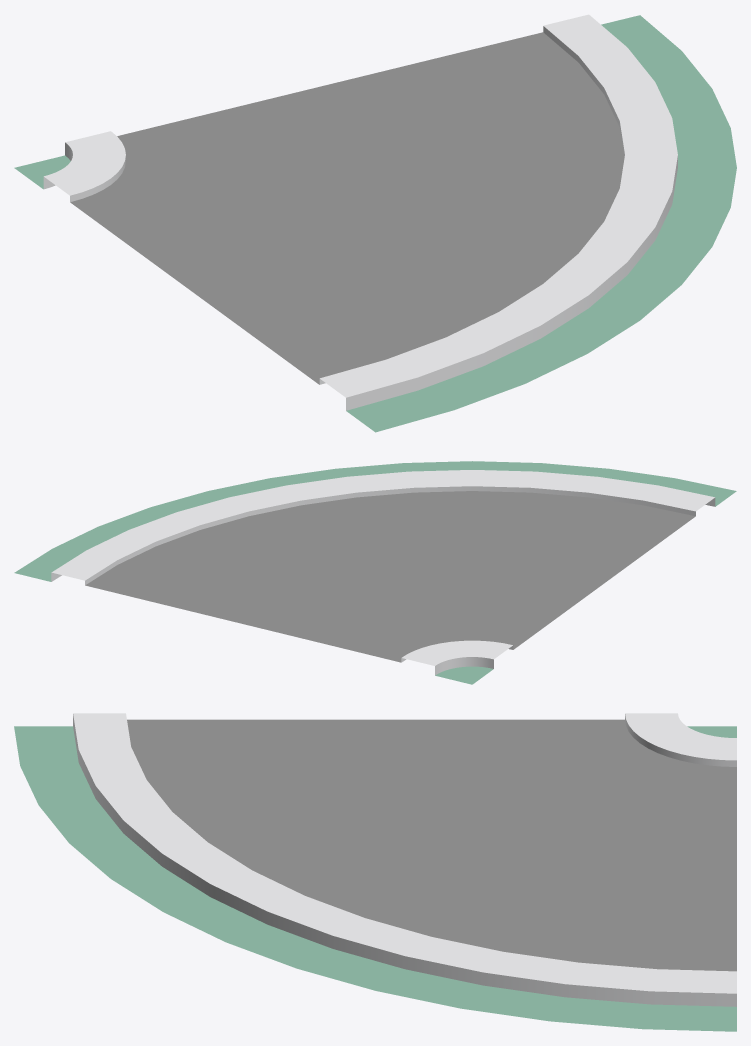
Rendered from road121.fbx.
3 views of the same model, one above another, from view 1: azimuth 30°, elevation 25°; view 2: azimuth 150°, elevation 25°; view 3: azimuth 270°, elevation 25° (orthographic). The views are drawn at different scales.
Visible parts, largest first — view 1: roadCornerSmall; view 2: roadCornerSmall; view 3: roadCornerSmall.
Part boxes in pixels (x1,y1,x2,y2): roadCornerSmall: [14, 14, 736, 432]; roadCornerSmall: [14, 461, 736, 684]; roadCornerSmall: [14, 713, 736, 1031].
Bounding box in the file's own units: 1000 × 20 × 1000.
